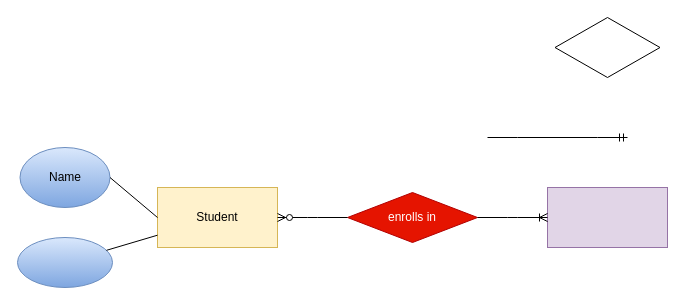
Some shapes in this 685 by 305 pixel diagram are drawn without their labels. The centre of each missing label's shape, as x and y in pixels:
"ID" goes at point (64, 262).
"Program" goes at point (607, 217).
